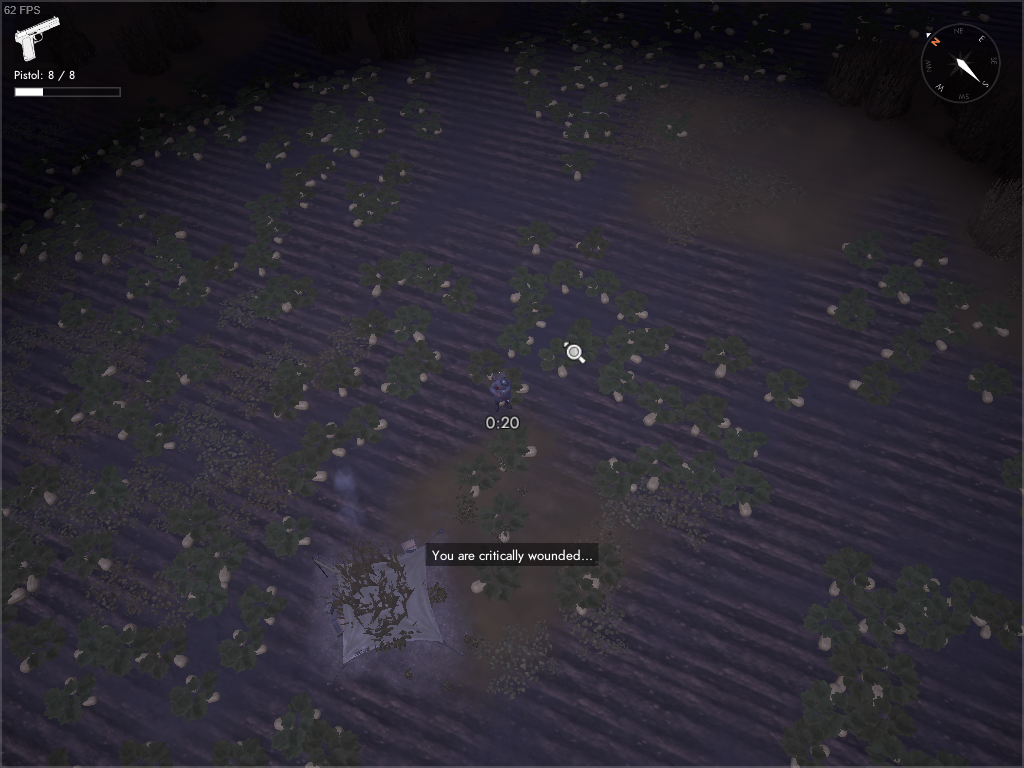player: (484, 367, 518, 415)
